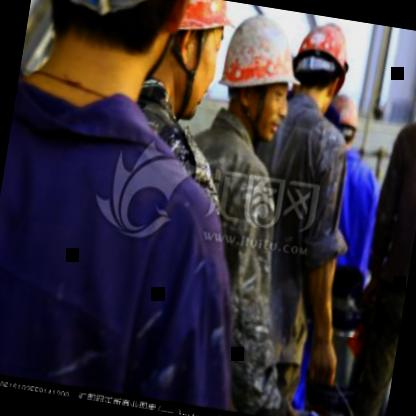helmet: (132, 0, 234, 139), (212, 11, 304, 145), (283, 13, 356, 118), (323, 89, 369, 152), (409, 46, 416, 125)
